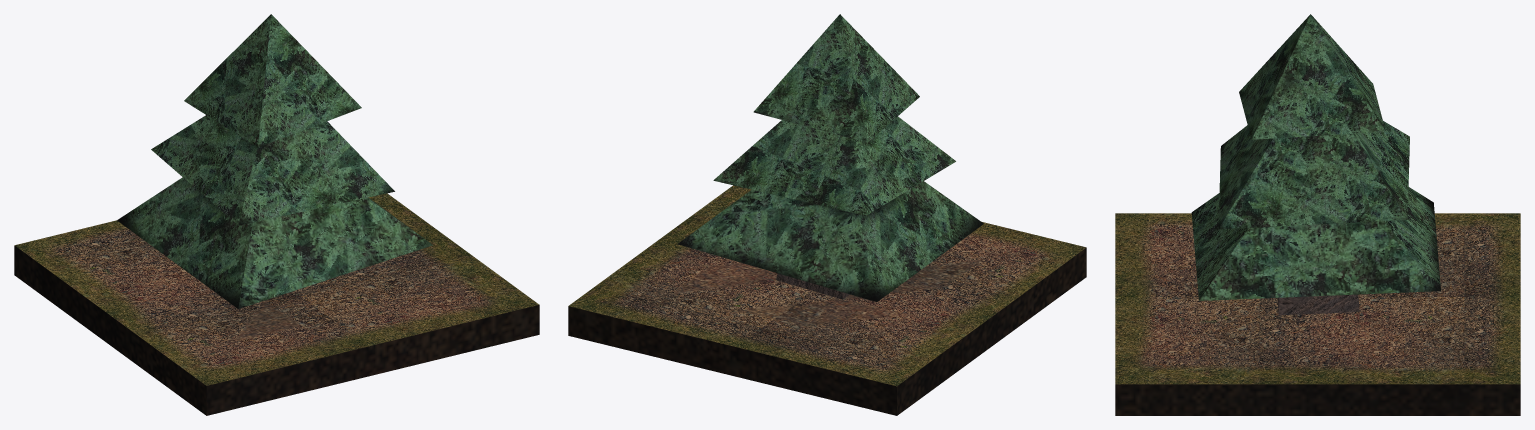
Rendered from SimpleTree4.glb.
The picture shows the model from 3 angles, left to right: view 1: azimuth 30°, elevation 25°; view 2: azimuth 150°, elevation 25°; view 3: azimuth 270°, elevation 25°; orthographic projection. The views are drawn at different scales.
Parts seen in each view (by area): view 1: Cube; view 2: Cube; view 3: Cube.
Boxes of the visible parts, <box> form: Cube: <box>14,14,539,415</box>; Cube: <box>568,14,1086,415</box>; Cube: <box>1115,14,1520,415</box>.
Size of the model in its own units: 2 by 1.7 by 2.
1 material, 1 textured.
